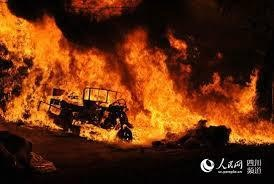fire: (11, 21, 274, 150)
